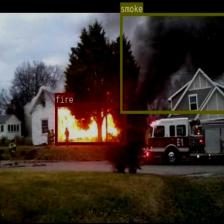fire: (55, 103, 126, 145)
smoke: (119, 12, 224, 112)
